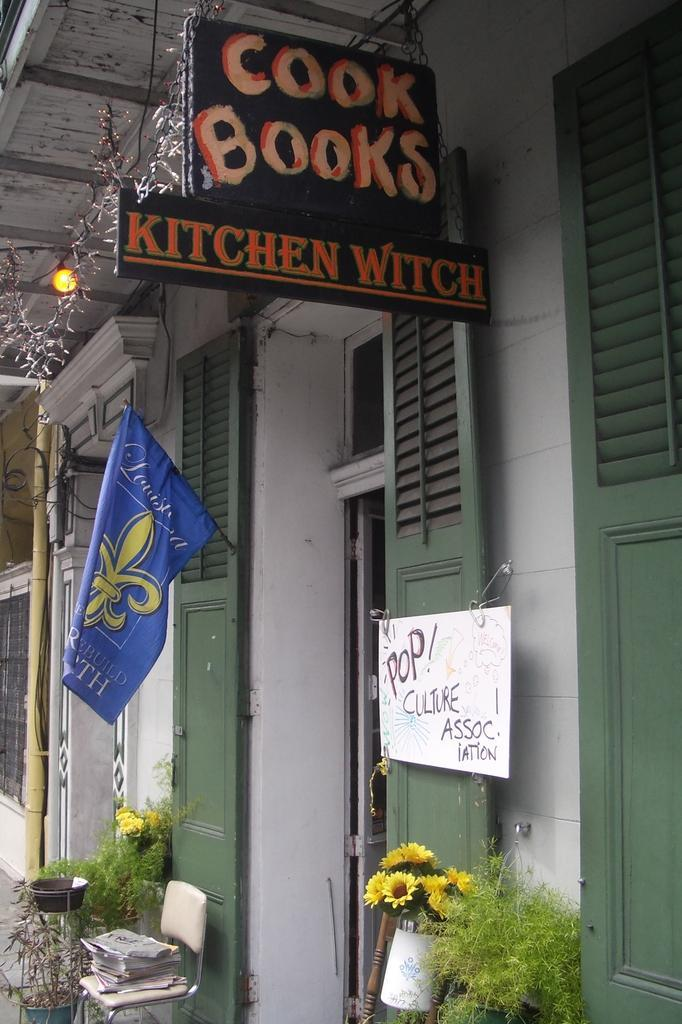door: (360, 535, 381, 977)
